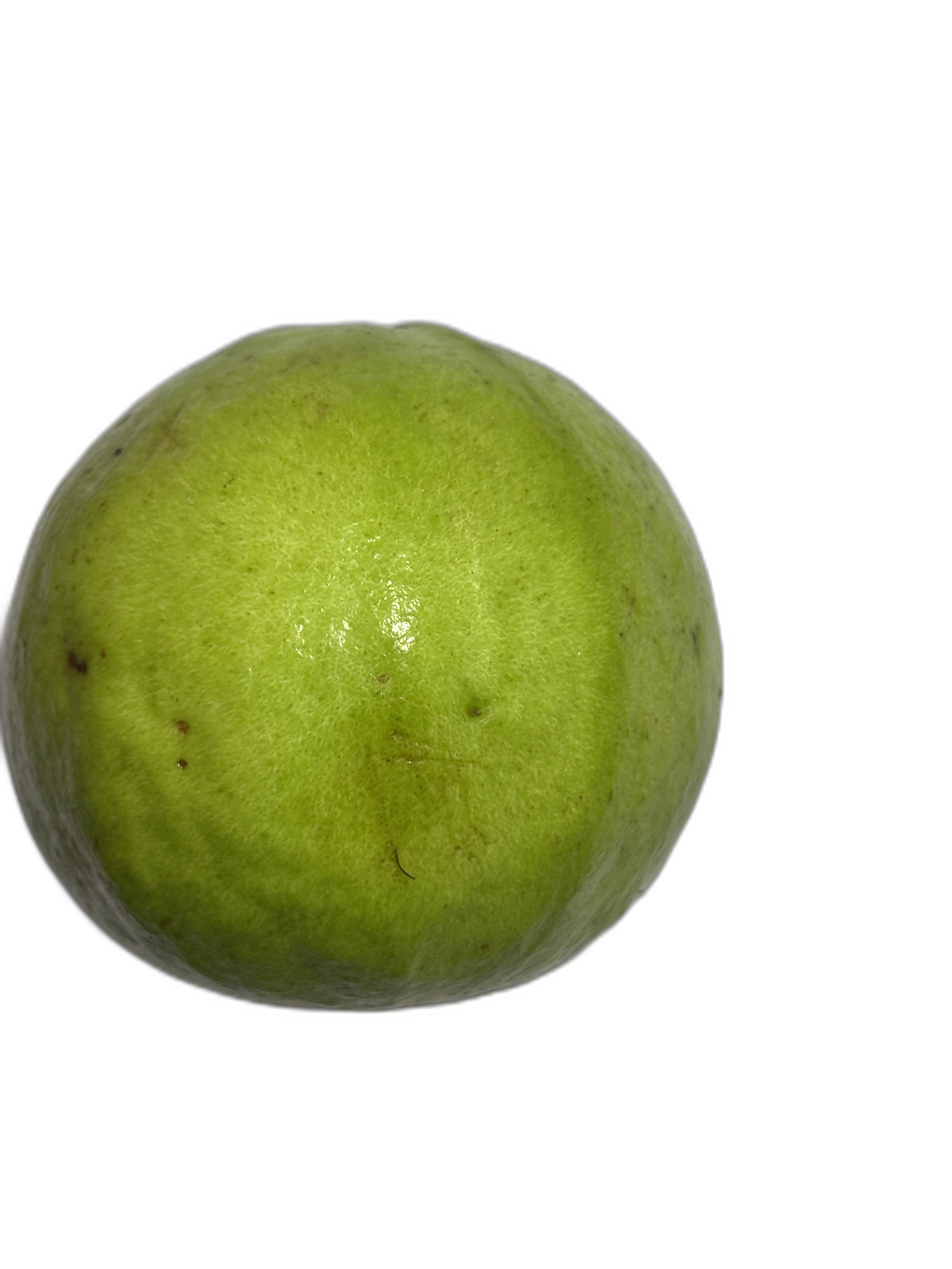guava: (206, 38, 834, 998)
